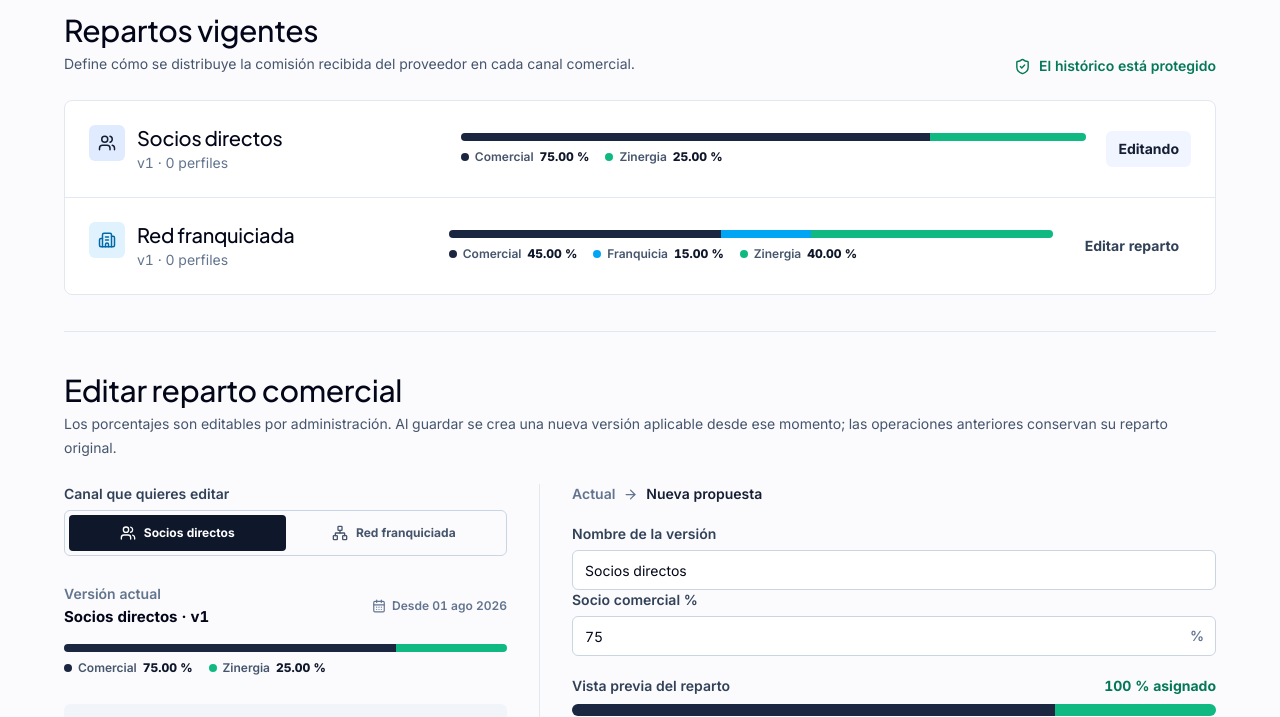
Test case: CommissionManagementView › enables franchise percentage only for the franchise network channel
Step 1. Click the button "Red franquiciada" → (394, 533), box [286, 515, 502, 551]
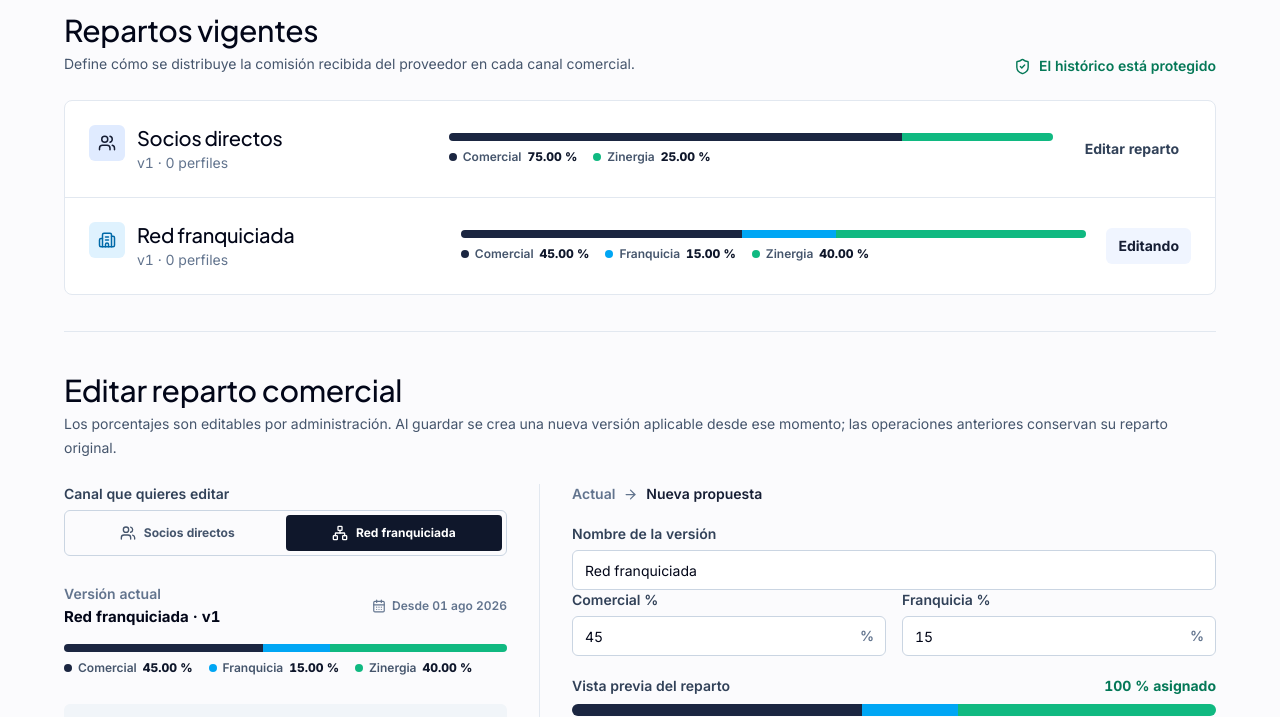
expect the text "40.00 %" below "75.00" is shown: met, box [819, 246, 869, 262]
expect the number field labelled "Franquicia %" is shown: met, box [902, 616, 1216, 656]
